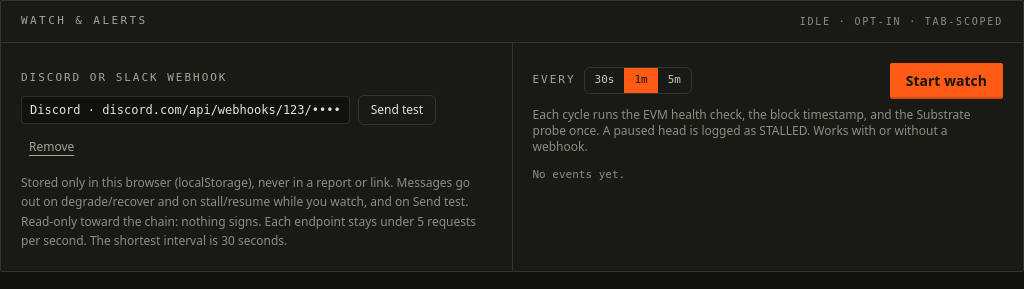
WatchAlertsPanel › sends a test message with the current state
Click the button "Send test": {"x": 397, "y": 110} [358,94,436,124]
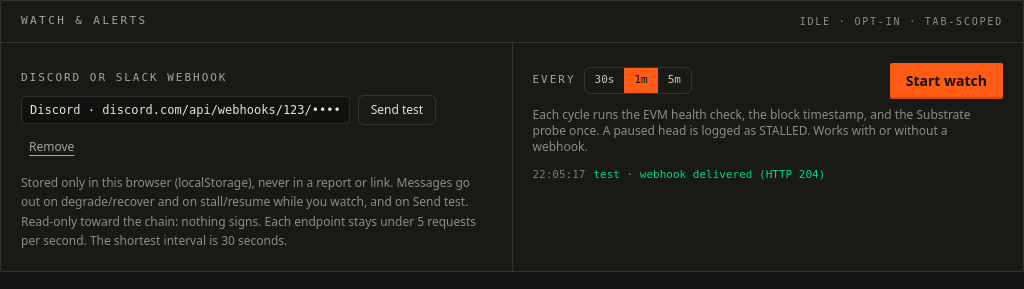
Check: the text "test · webhook delivered (HTTP 204)" is shown, box [594,166,825,183]
